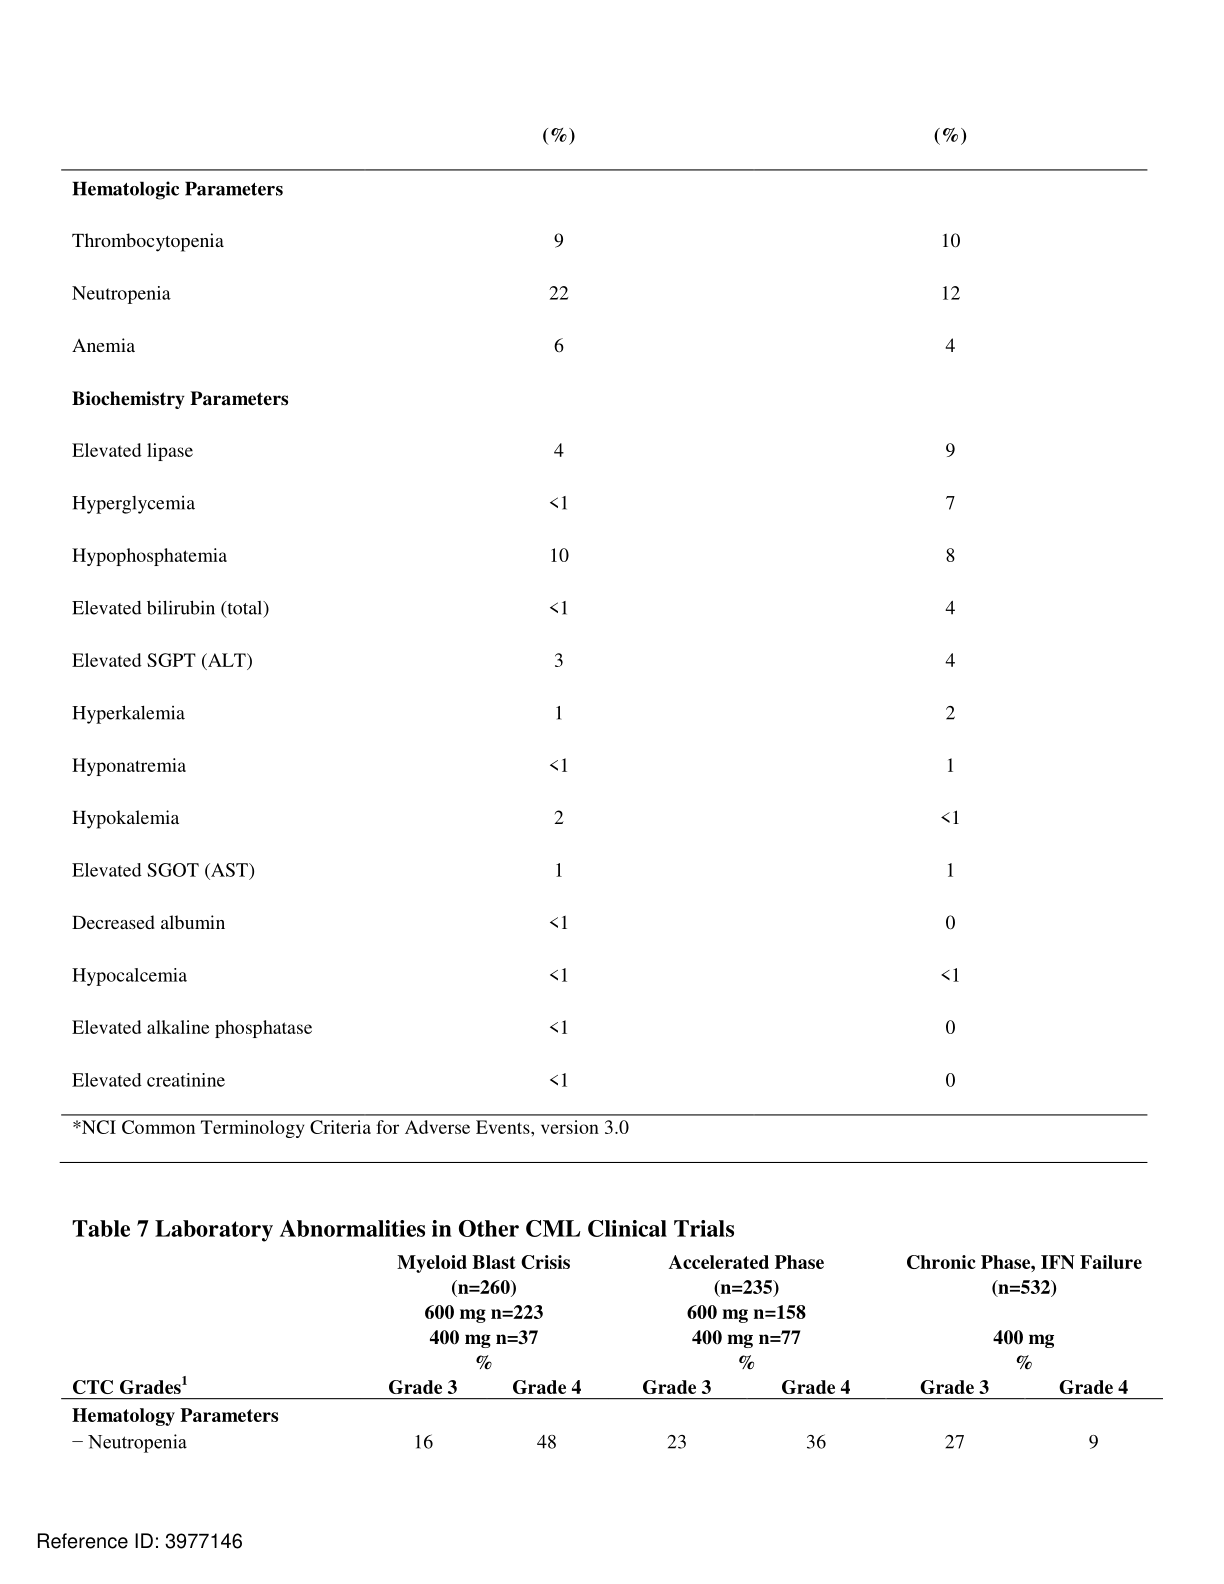partial_lined: (60, 114, 1153, 1116)
partial_lined_merged_cells: (55, 1247, 1164, 1454)
